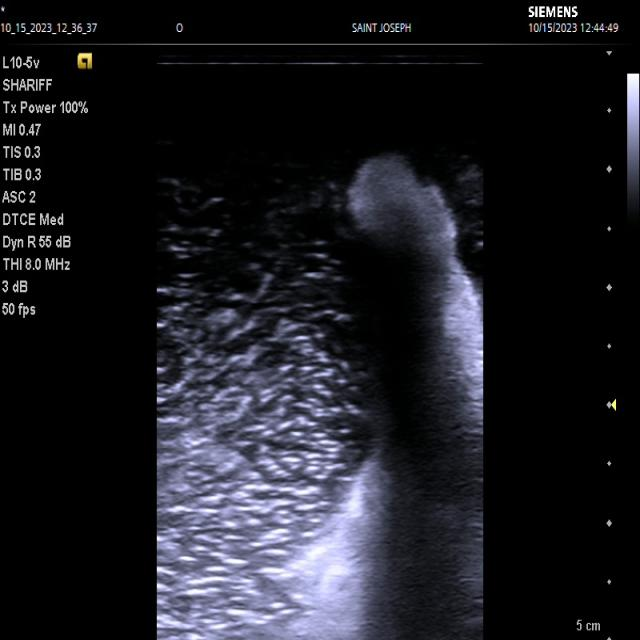tissue: (292, 150, 485, 640)
